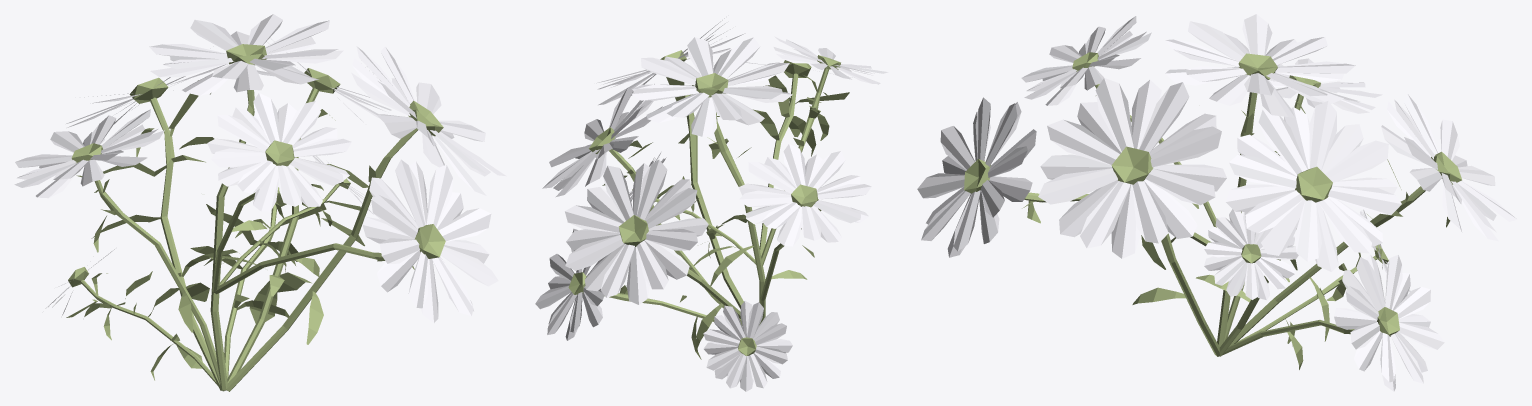
The model's file is Margarita_flower_bush.glb.
3 renders of one model, left to right at view 1: azimuth 30°, elevation 25°; view 2: azimuth 150°, elevation 25°; view 3: azimuth 270°, elevation 25°, orthographic. The views are drawn at different scales.
Visible parts, largest first — view 1: unnamed (×23); view 2: unnamed (×22); view 3: unnamed (×20).
Part boxes in pixels (<box>): unnamed (×23): <box>14,14,506,391</box>; unnamed (×22): <box>535,18,888,391</box>; unnamed (×20): <box>917,14,1517,391</box>.
Size of the model in its own units: 2.23 by 1.86 by 2.99.
